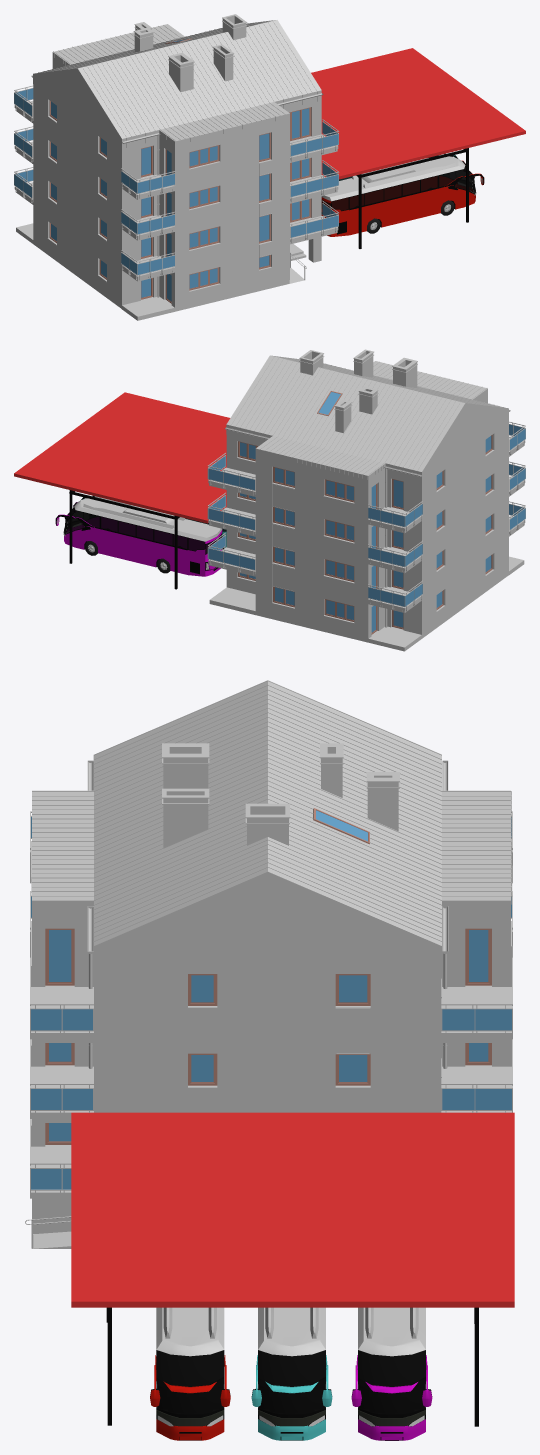
Rendered from PARKIR BUS.fbx.
The picture shows the model from 3 angles, top to bottom: view 1: azimuth 30°, elevation 25°; view 2: azimuth 150°, elevation 25°; view 3: azimuth 270°, elevation 25°; orthographic projection. The views are drawn at different scales.
Visible parts, largest first — view 1: building_04, Cube.008, body_bus_Cube, Cube.007; view 2: building_04, Cube.008, body_bus_Cube.002, Cube.006; view 3: building_04, Cube.008, body_bus_Cube, body_bus_Cube.001, body_bus_Cube.002.
Boxes of the visible parts, x1,y1,x2,y2 form: building_04: [14, 14, 339, 320]; Cube.008: [311, 48, 525, 179]; body_bus_Cube: [321, 154, 484, 236]; Cube.007: [358, 149, 466, 177]; building_04: [207, 349, 525, 651]; Cube.008: [14, 392, 230, 523]; body_bus_Cube.002: [55, 496, 222, 576]; Cube.006: [69, 491, 177, 519]; building_04: [25, 680, 512, 1248]; Cube.008: [71, 1112, 514, 1307]; body_bus_Cube: [150, 1307, 230, 1440]; body_bus_Cube.001: [251, 1307, 332, 1440]; body_bus_Cube.002: [351, 1307, 432, 1440].
Bounding box in the file's own units: 14520 × 7668 × 7874.
